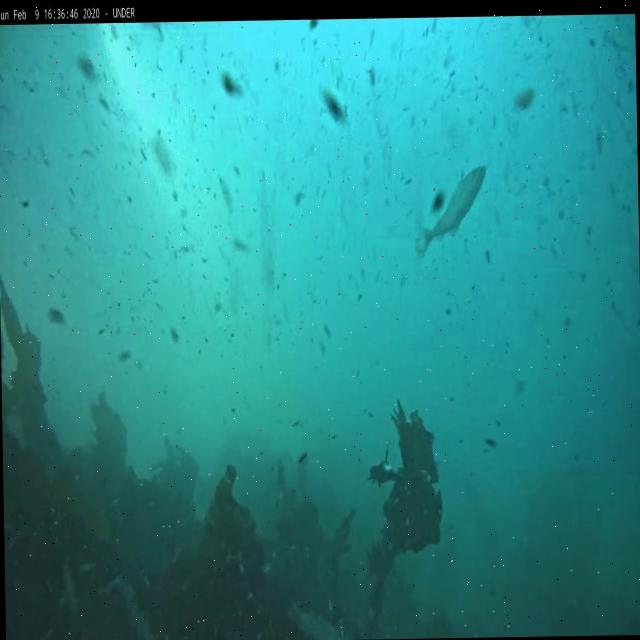fish: (420, 168, 490, 254)
